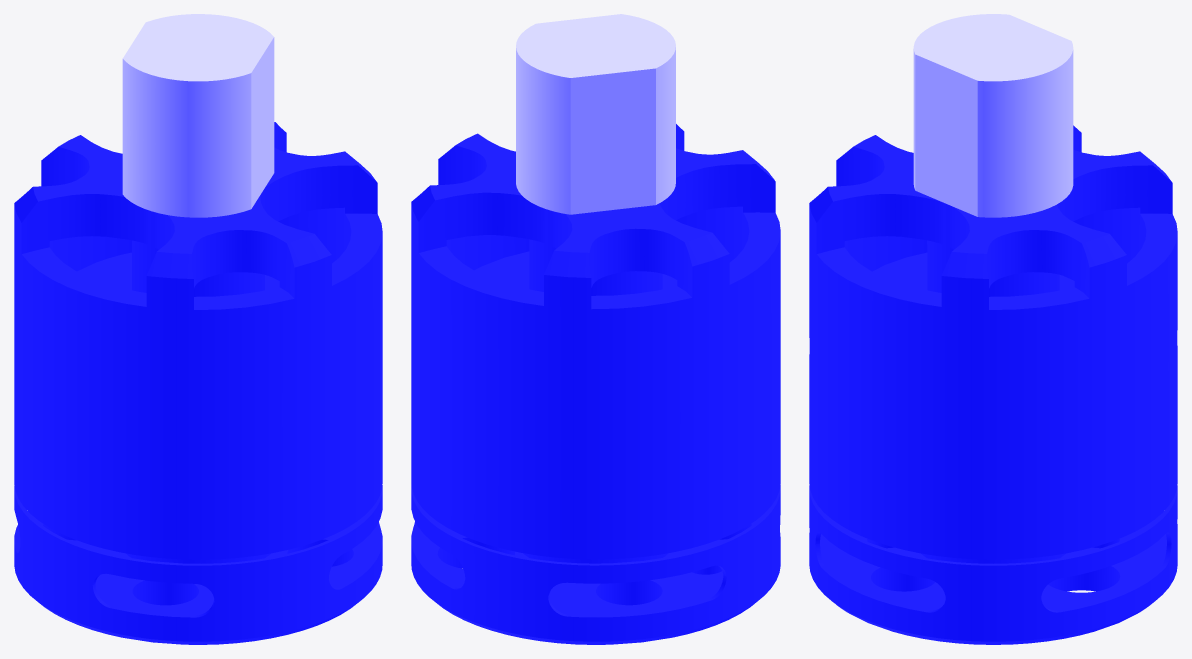
Rendered from x500_motor.dae.
3 views of the same model, side by side, from view 1: azimuth 30°, elevation 25°; view 2: azimuth 150°, elevation 25°; view 3: azimuth 270°, elevation 25° (orthographic).
Parts seen in each view (by area): view 1: Object015; view 2: Object015; view 3: Object015.
Part boxes in pixels (x1,y1,x2,y2): Object015: (14, 14, 382, 644); Object015: (411, 14, 780, 644); Object015: (809, 14, 1177, 644).
Bounding box in the file's own units: 0.0277 × 0.0277 × 0.0458.
